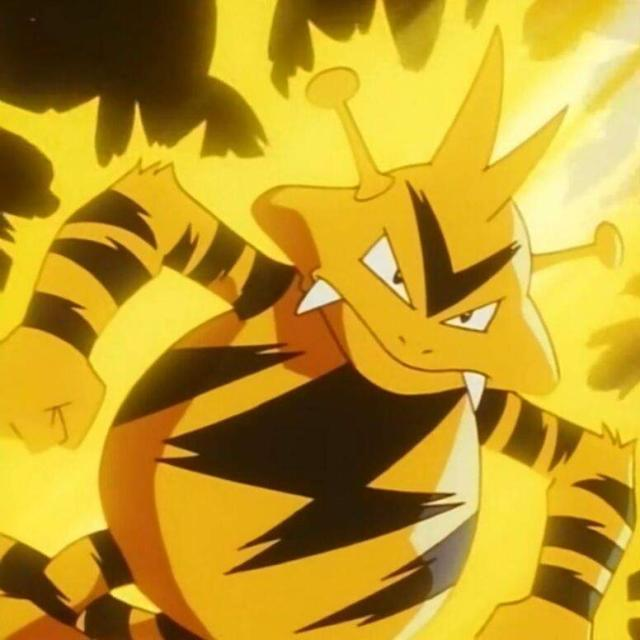Electabuzz: (58, 153, 634, 640)
